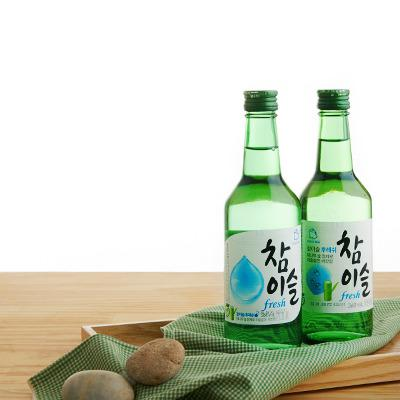soju: (219, 88, 380, 347)
